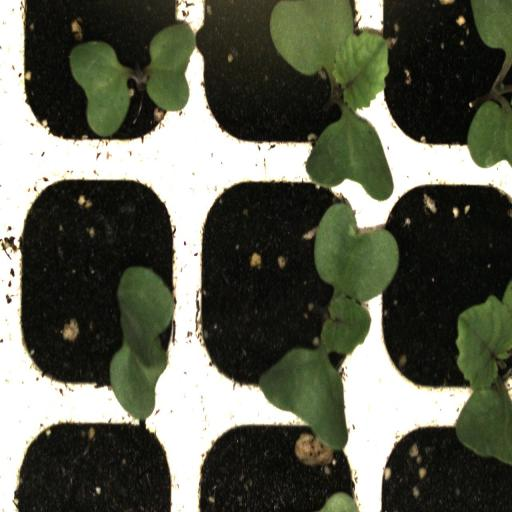seedling: (190, 164, 372, 406), (190, 0, 370, 159)
weak: (11, 166, 186, 404), (10, 0, 185, 156)
